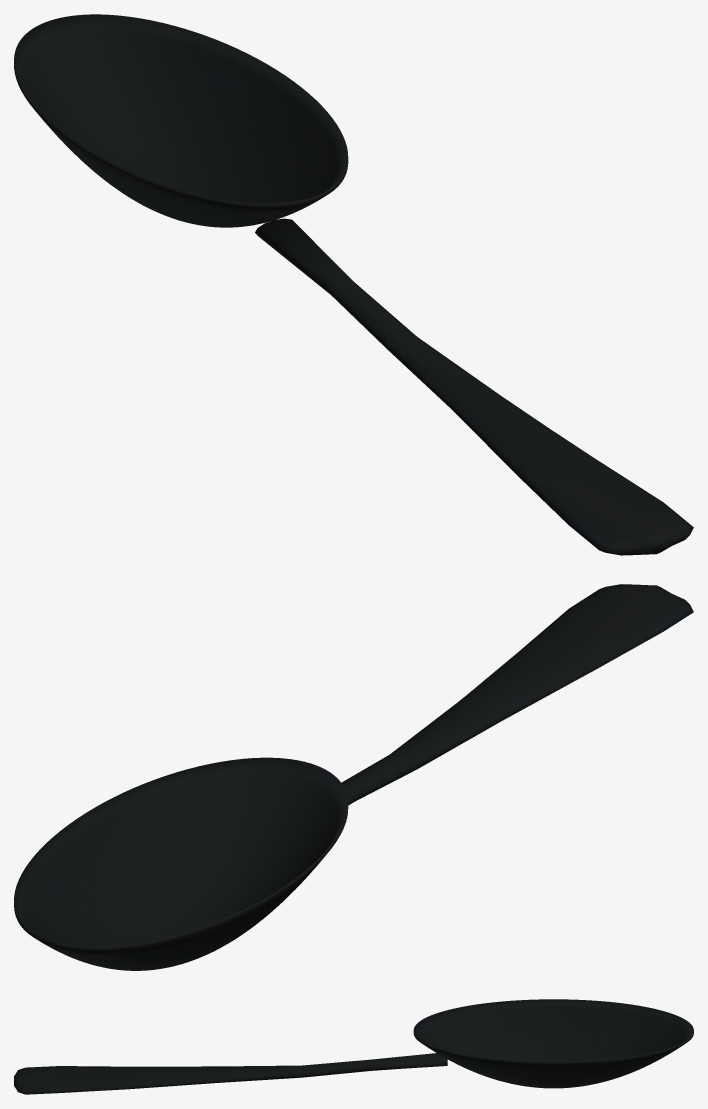
3 renders of one model, top to bottom at view 1: azimuth 30°, elevation 25°; view 2: azimuth 150°, elevation 25°; view 3: azimuth 270°, elevation 25°, orthographic. The views are drawn at different scales.
Parts seen in each view (by area): view 1: body; view 2: body; view 3: body.
Part boxes in pixels (bbox=[...]): body: bbox=[14, 14, 693, 555]; body: bbox=[14, 584, 693, 970]; body: bbox=[14, 999, 693, 1094].
Bounding box in the file's own units: 0.0476 × 0.0196 × 0.2195.
Materials: 1 (1 with a texture image).
